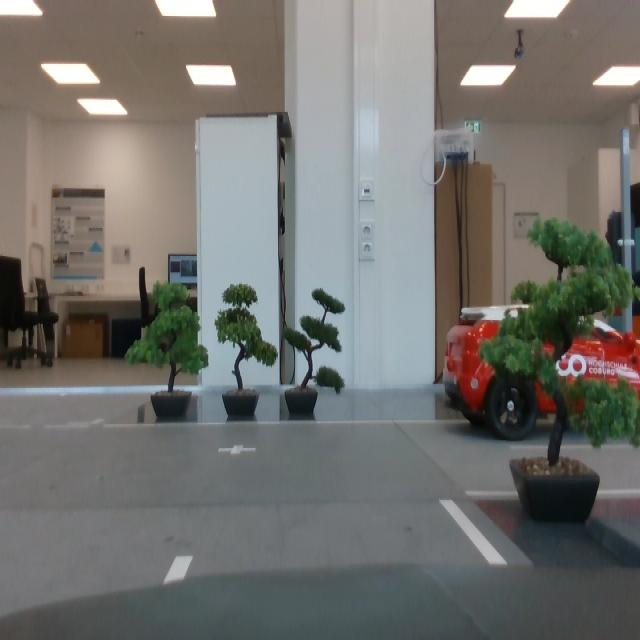car: (443, 304, 640, 441)
potted plant: (481, 217, 640, 523), (125, 280, 209, 418), (214, 282, 278, 416), (283, 287, 346, 415)
traffic light: (608, 212, 637, 286)
